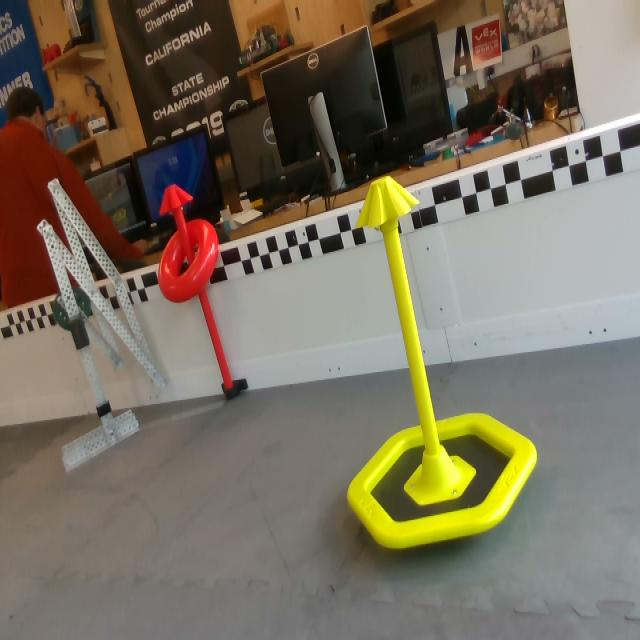Mobile-Goal: (346, 179, 536, 553)
Red-Ring: (158, 220, 219, 304)
Yellow-Stake-Head: (357, 176, 419, 230)
zred-Stake-Head: (160, 184, 193, 215)
